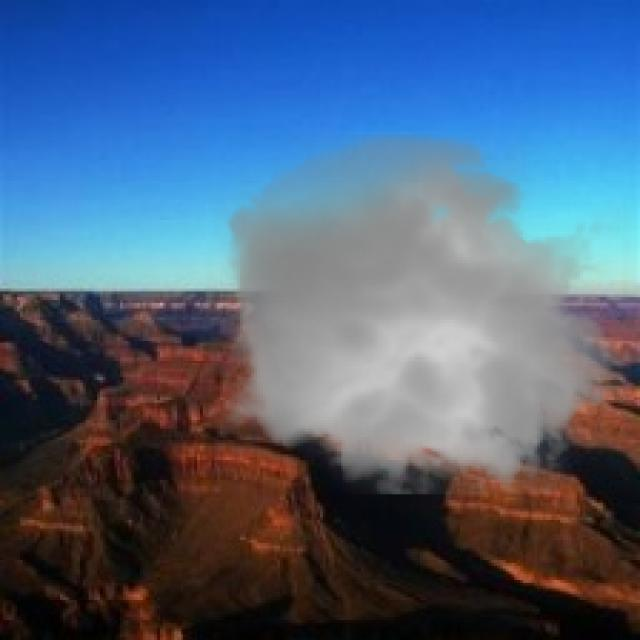smoke: (206, 120, 631, 511)
